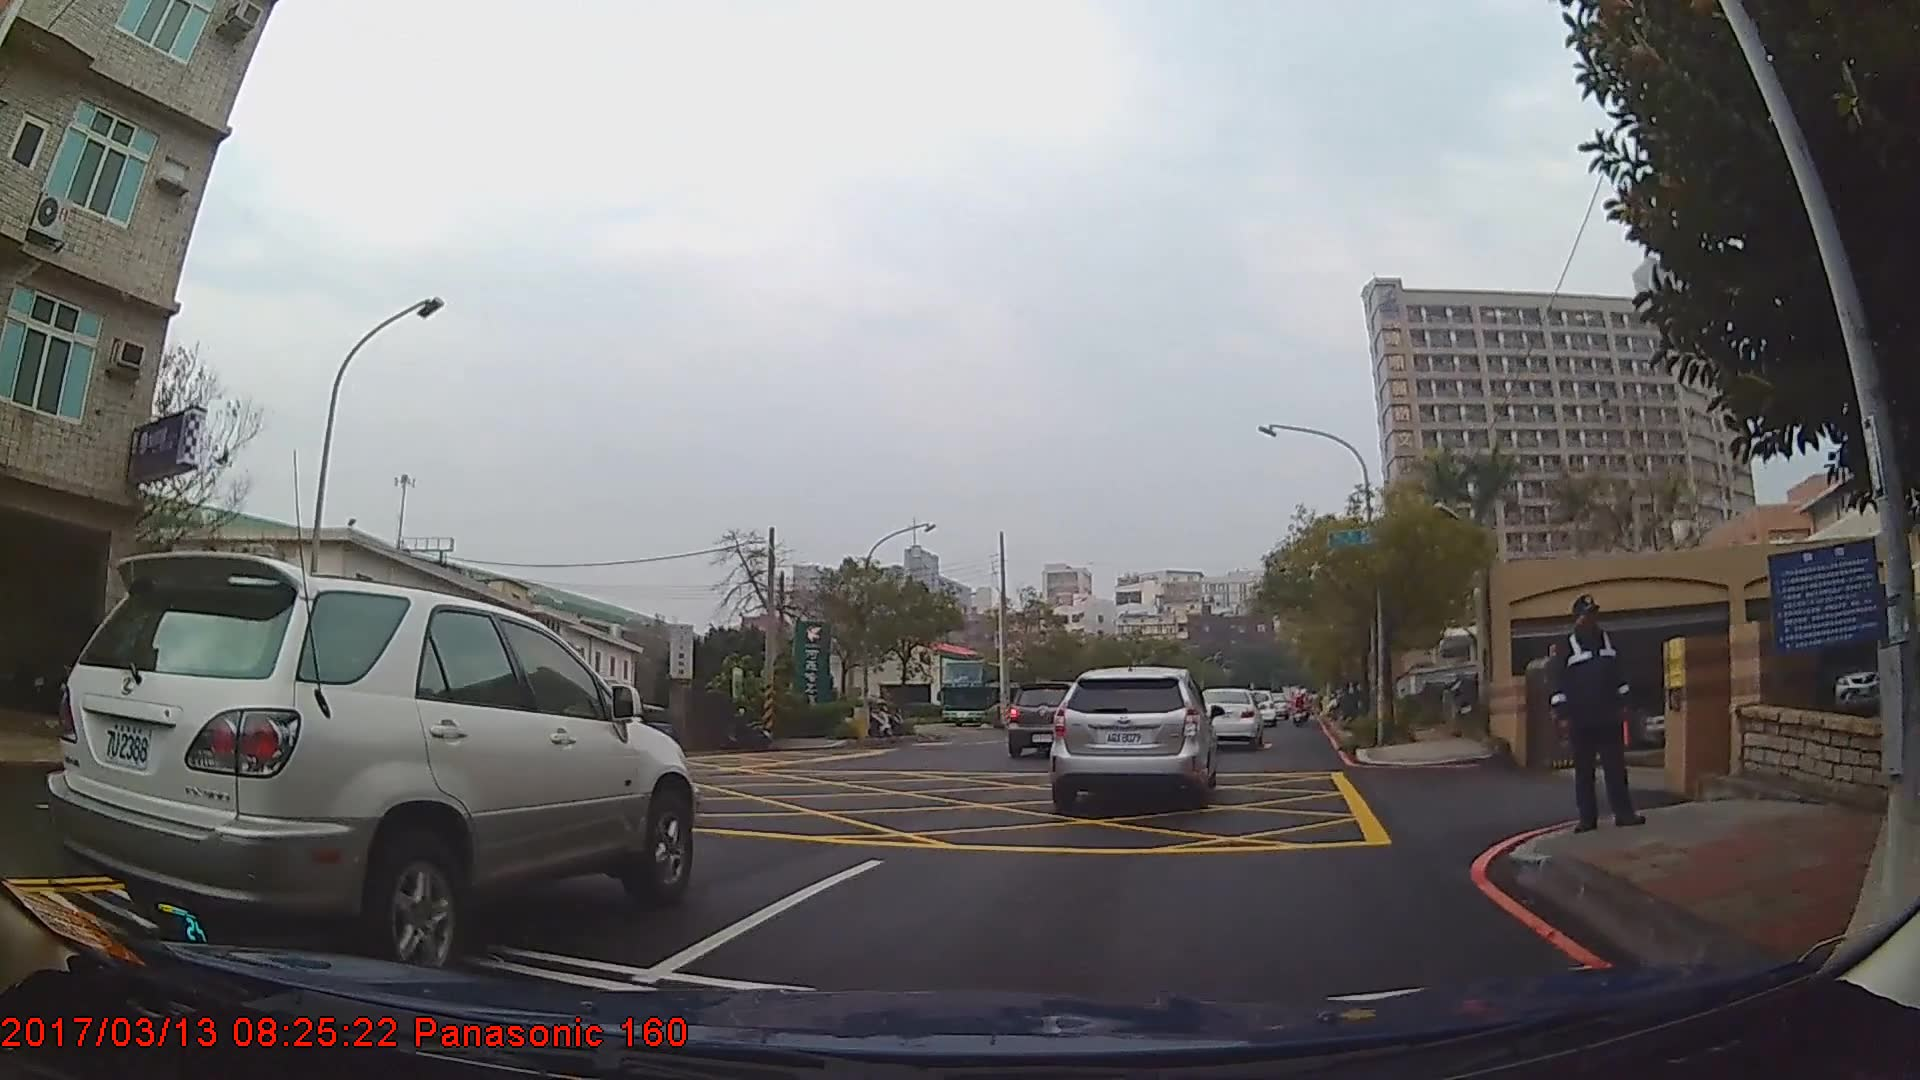pedestrian: (1551, 593, 1646, 833)
vehicle: (44, 548, 696, 971), (1048, 662, 1215, 806), (1002, 681, 1096, 755), (937, 659, 1037, 727), (1194, 684, 1263, 746)
